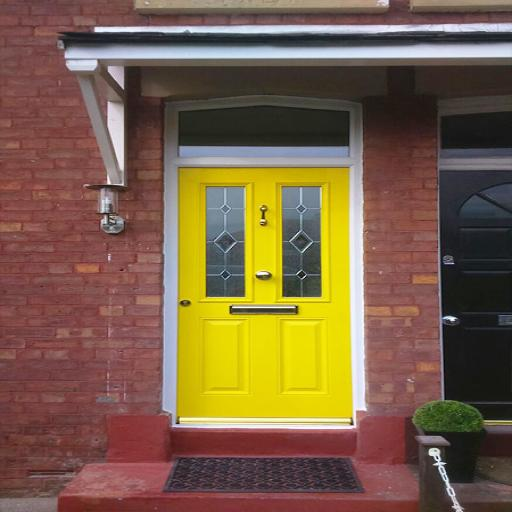Door: (176, 168, 354, 425), (440, 170, 512, 424)
Stairs: (57, 412, 512, 512)
